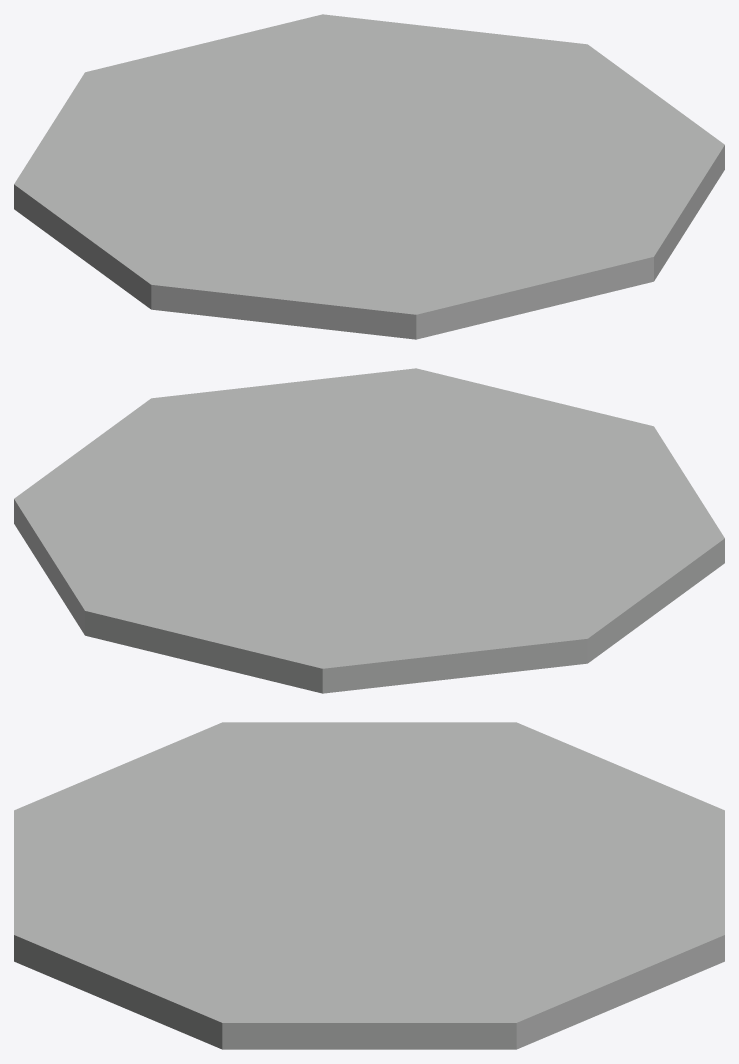
File: octagon.fbx
The picture shows the model from 3 angles, top to bottom: view 1: azimuth 30°, elevation 25°; view 2: azimuth 150°, elevation 25°; view 3: azimuth 270°, elevation 25°; orthographic projection. The views are drawn at different scales.
Parts seen in each view (by area): view 1: node_id30; view 2: node_id30; view 3: node_id30.
Boxes of the visible parts, bbox=[...] form: node_id30: bbox=[14, 14, 724, 339]; node_id30: bbox=[14, 368, 724, 693]; node_id30: bbox=[14, 722, 724, 1049].
Bounding box in the file's own units: 0.512 × 0.0212 × 0.512.
Materials: 1 (1 with a texture image).
